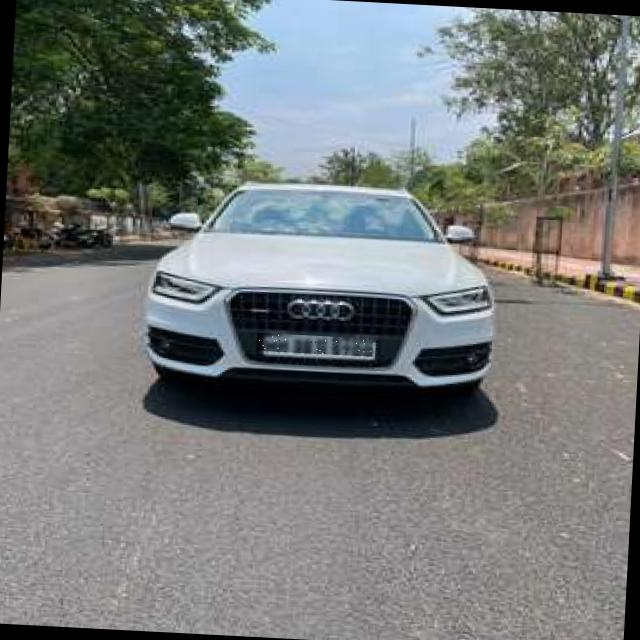Plate: (258, 334, 375, 358)
